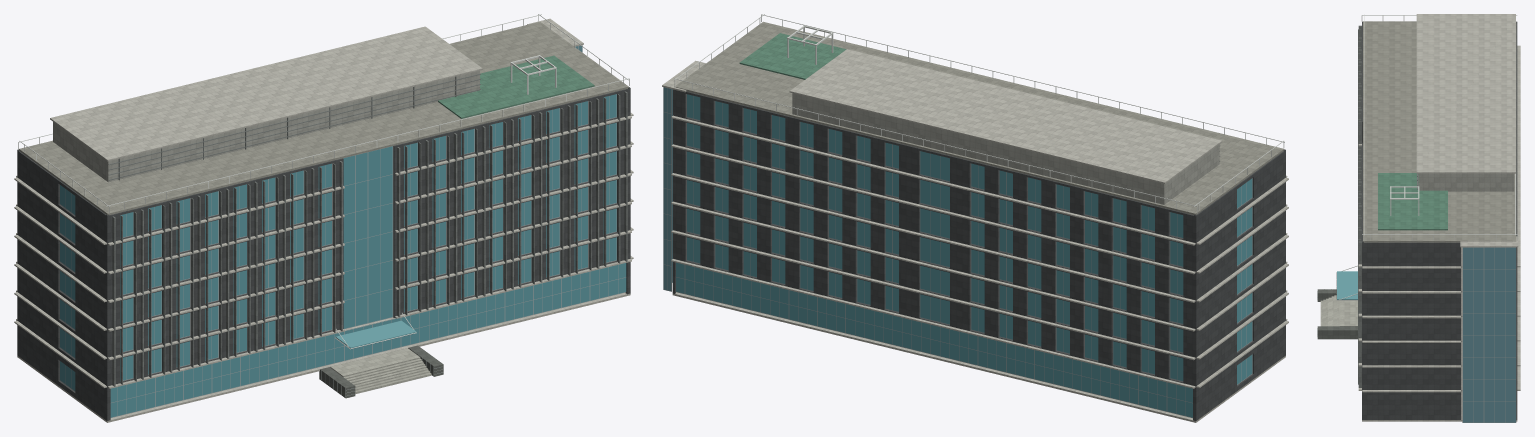
3 renders of one model, left to right at view 1: azimuth 30°, elevation 25°; view 2: azimuth 150°, elevation 25°; view 3: azimuth 270°, elevation 25°, orthographic. The views are drawn at different scales.
Visible parts, largest first — view 1: c5__glass, c5__darkwall, c5__stone, c5__fin, c5__roof, c5__frame, c5__plantwall, c5__garden, c5__steel, c5__stair-main, c5__gabion, c5__glass-canopy (+1 smaller); view 2: c5__darkwall, c5__glass, c5__stone, c5__roof, c5__frame, c5__plantwall, c5__steel, c5__garden, c5__glass-end; view 3: c5__stone, c5__darkwall, c5__roof, c5__glass-end, c5__garden, c5__plantwall, c5__frame, c5__fin, c5__steel, c5__gabion, c5__stair-main, c5__glass-canopy (+1 smaller).
Part boxes in pixels (x1,y1,x2,y2): c5__glass: [60, 94, 626, 417]; c5__darkwall: [17, 87, 630, 420]; c5__stone: [14, 18, 633, 422]; c5__fin: [108, 73, 627, 386]; c5__roof: [19, 22, 628, 214]; c5__frame: [59, 45, 626, 417]; c5__plantwall: [53, 71, 479, 182]; c5__garden: [438, 55, 594, 118]; c5__steel: [18, 14, 629, 349]; c5__stair-main: [341, 356, 431, 394]; c5__gabion: [319, 345, 443, 398]; c5__glass-canopy: [335, 320, 416, 348]; c5__darkwall: [672, 89, 1285, 420]; c5__glass: [676, 94, 1252, 417]; c5__stone: [662, 49, 1288, 422]; c5__roof: [675, 21, 1284, 214]; c5__frame: [663, 87, 1252, 418]; c5__plantwall: [792, 93, 1219, 204]; c5__steel: [674, 14, 1284, 213]; c5__garden: [739, 33, 846, 79]; c5__glass-end: [663, 87, 672, 290]; c5__stone: [1358, 14, 1520, 421]; c5__darkwall: [1362, 21, 1517, 419]; c5__roof: [1363, 21, 1516, 242]; c5__glass-end: [1463, 247, 1515, 422]; c5__garden: [1378, 173, 1447, 230]; c5__plantwall: [1418, 173, 1514, 191]; c5__frame: [1317, 247, 1516, 422]; c5__fin: [1358, 25, 1417, 387]; c5__steel: [1336, 14, 1517, 300]; c5__gabion: [1317, 289, 1357, 339]; c5__stair-main: [1320, 295, 1342, 326]; c5__glass-canopy: [1337, 271, 1357, 299].
Bounding box in the file's own units: 76.51 × 32.77 × 29.04.
Materials: 14 (9 with a texture image).
